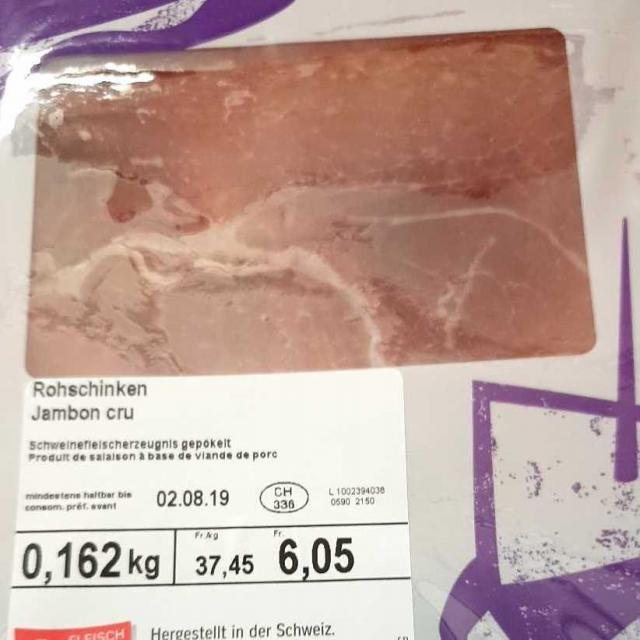ham: (23, 45, 589, 374)
